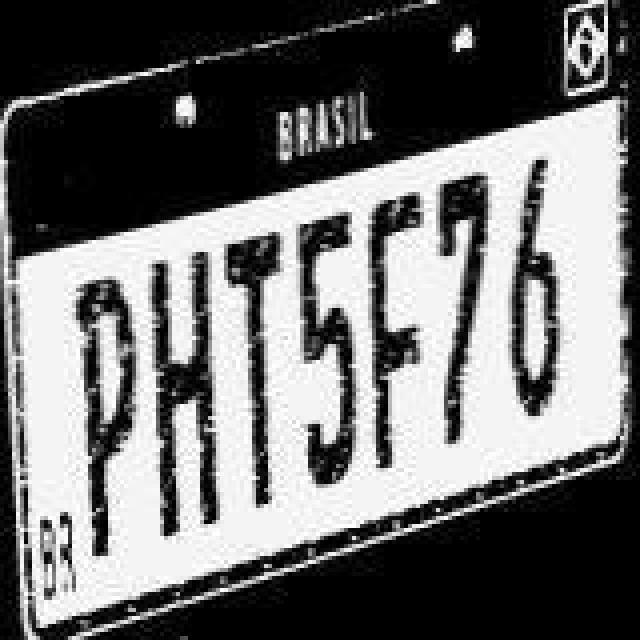5: (290, 208, 362, 496)
6: (502, 154, 566, 422)
7: (434, 176, 498, 448)
F: (364, 190, 432, 474)
H: (146, 252, 226, 540)
P: (70, 282, 150, 566)
T: (224, 230, 300, 522)
